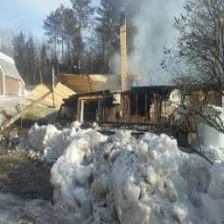smoke: (134, 8, 167, 73)
